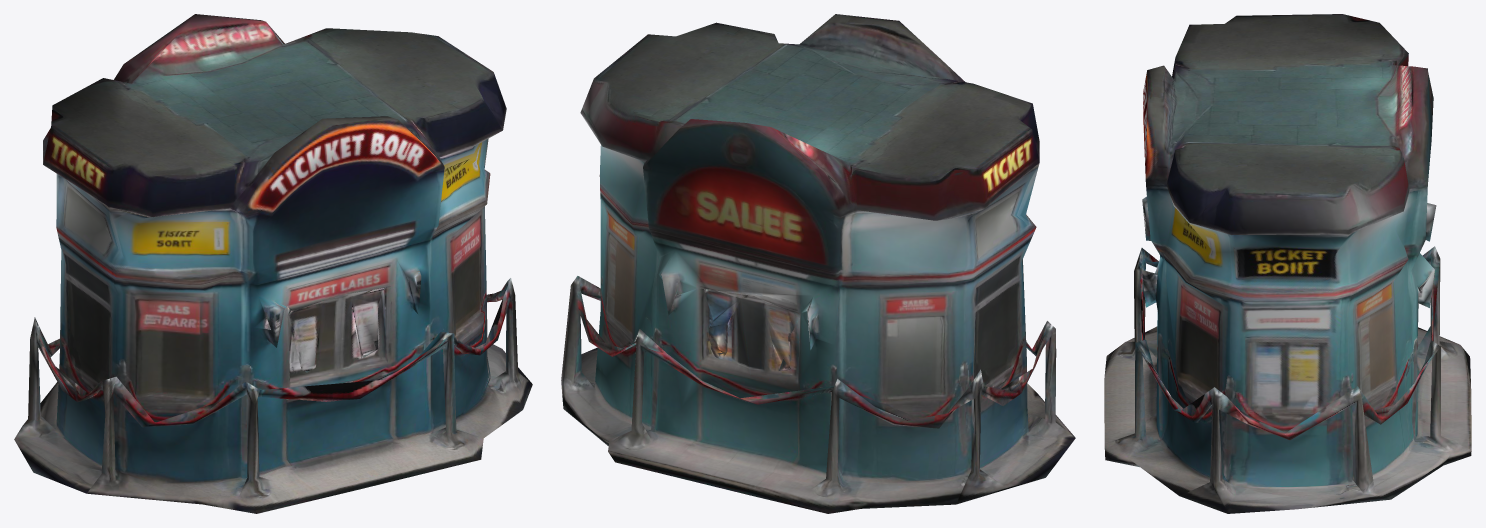
3 renders of one model, left to right at view 1: azimuth 30°, elevation 25°; view 2: azimuth 150°, elevation 25°; view 3: azimuth 270°, elevation 25°, orthographic. The views are drawn at different scales.
Parts seen in each view (by area): view 1: Mesh1; view 2: Mesh1; view 3: Mesh1.
Part boxes in pixels (x1,y1,x2,y2): Mesh1: (14,14,532,513); Mesh1: (561,14,1075,513); Mesh1: (1104,14,1471,513).
Bounding box in the file's own units: 204 × 145 × 144.
Materials: 1 (1 with a texture image).
